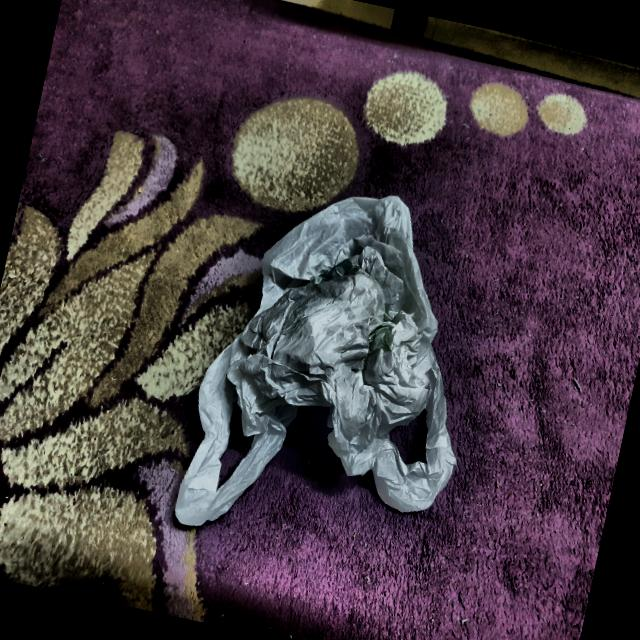plastic bag: (155, 149, 516, 592)
